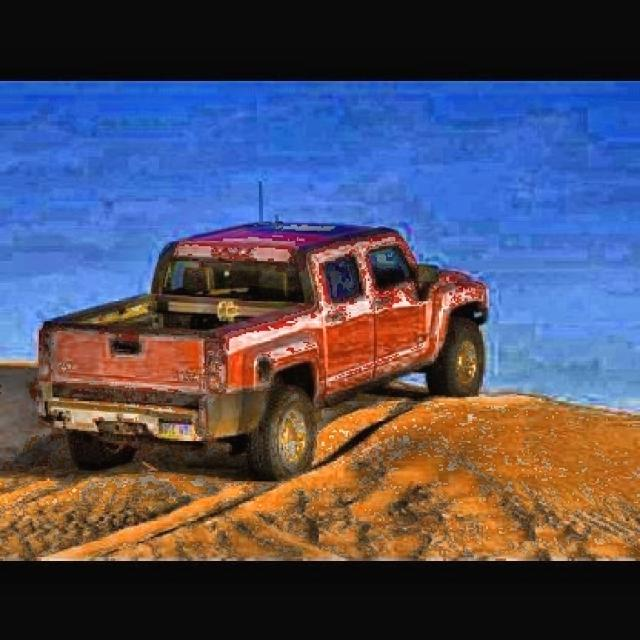maroon: (32, 224, 488, 482)
